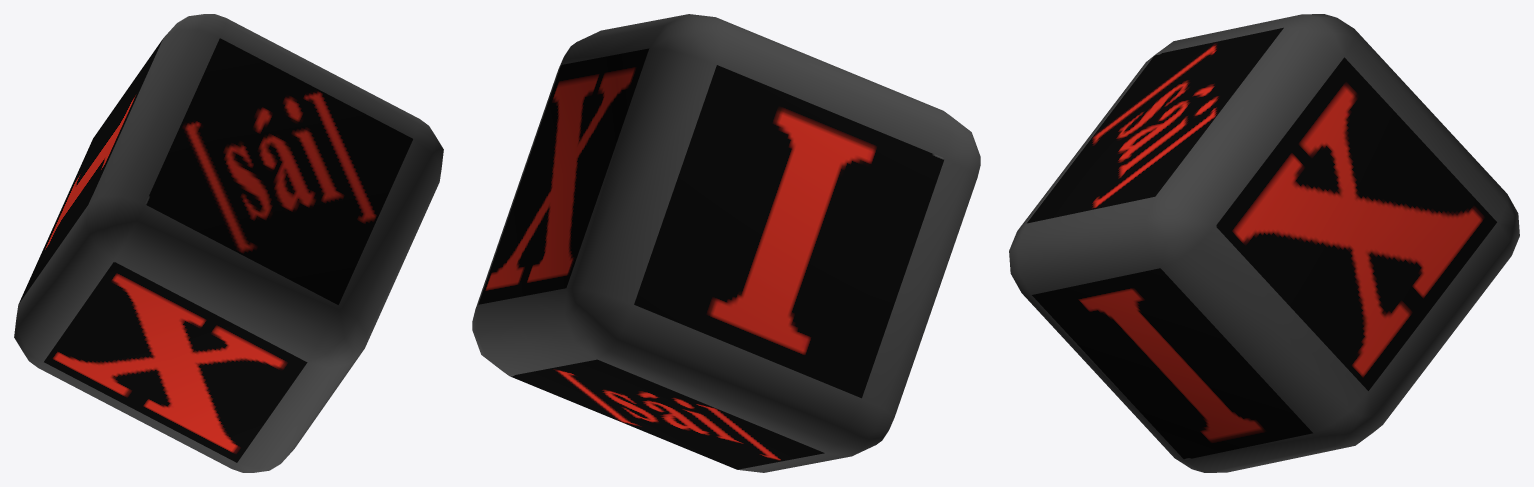
The model's file is xigo_idle.ico.obj.
The picture shows the model from 3 angles, left to right: view 1: azimuth 30°, elevation 25°; view 2: azimuth 150°, elevation 25°; view 3: azimuth 270°, elevation 25°; orthographic projection. The views are drawn at different scales.
Size of the model in its own units: 4.27 by 4.91 by 5.02.
Materials: 1 (1 with a texture image).
